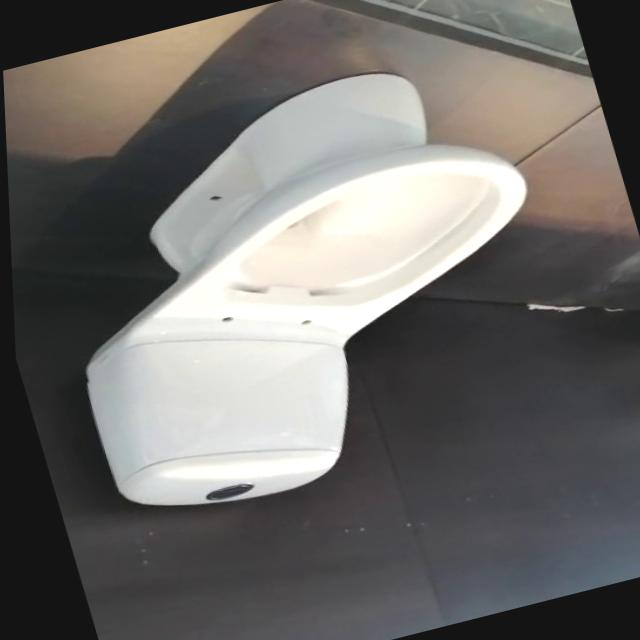toilet: (11, 42, 596, 532)
